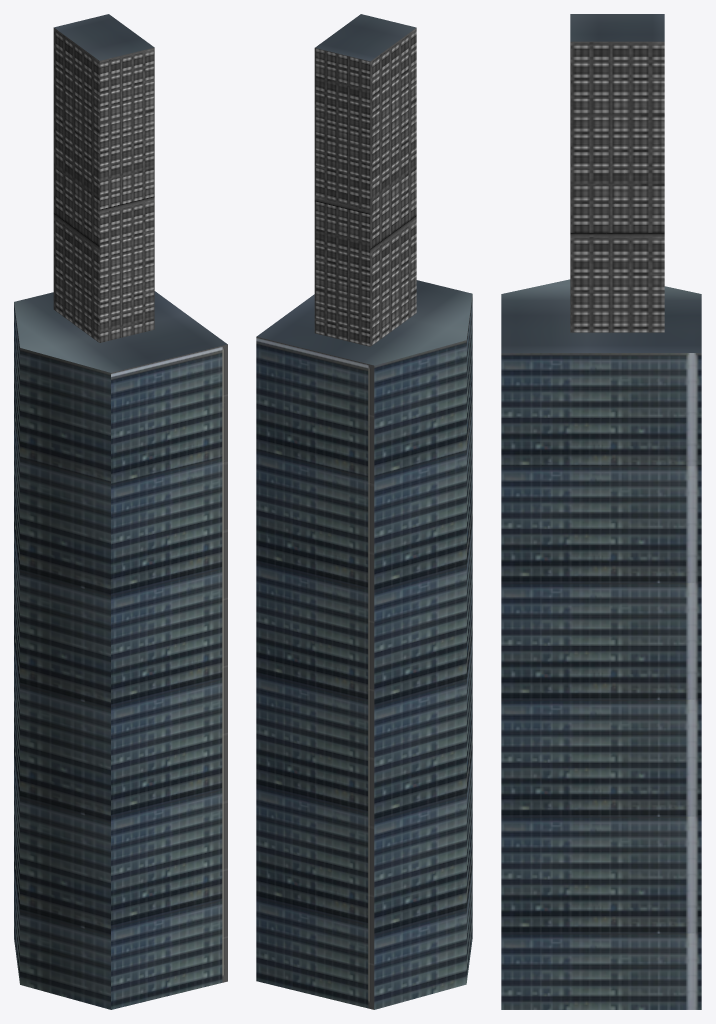
Rendered from SurroundingEnvironment_TallBuilding3.fbx.
The picture shows the model from 3 angles, left to right: view 1: azimuth 30°, elevation 25°; view 2: azimuth 150°, elevation 25°; view 3: azimuth 270°, elevation 25°; orthographic projection. The views are drawn at different scales.
Visible parts, largest first — view 1: Building3; view 2: Building3; view 3: Building3.
Boxes of the visible parts, left/top/right/bottom form: Building3: left=14, top=14, right=227, bottom=1009; Building3: left=256, top=14, right=472, bottom=1009; Building3: left=501, top=14, right=701, bottom=1009.
Bounding box in the file's own units: 60.32 × 332 × 63.65.
